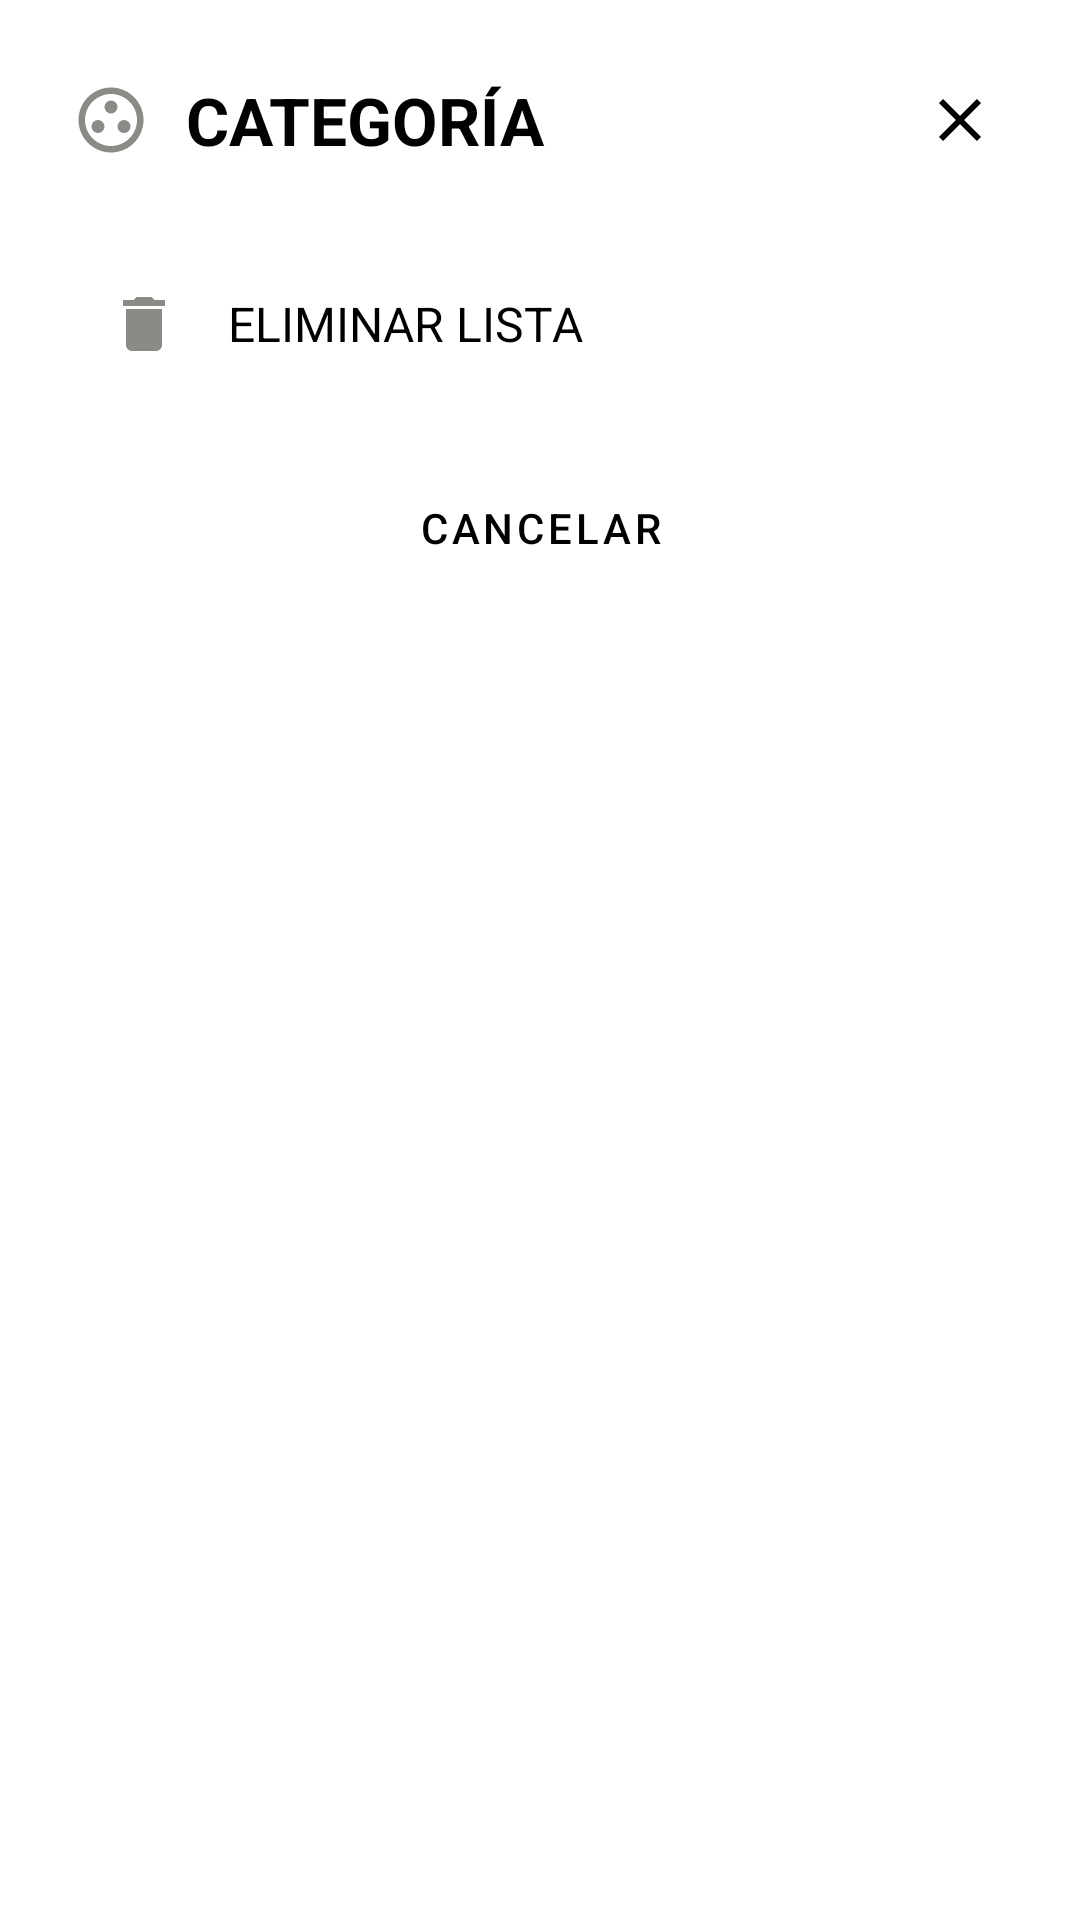

Where to tap for icons on this 1080 x 1920 app screen, as (x,y):
close: (960,120)
